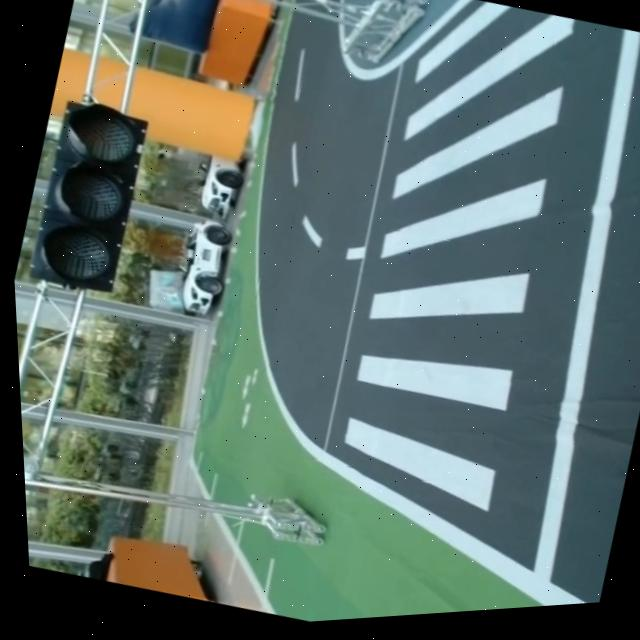traffic-light: (13, 80, 169, 311)
